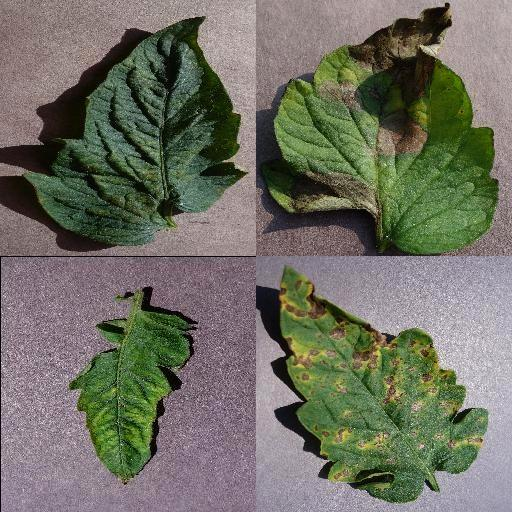Late Blight: (260, 0, 500, 256)
Mosaic Virus: (67, 309, 195, 485)
Septoria: (280, 264, 488, 504)
Spider Mites: (23, 14, 244, 248)
